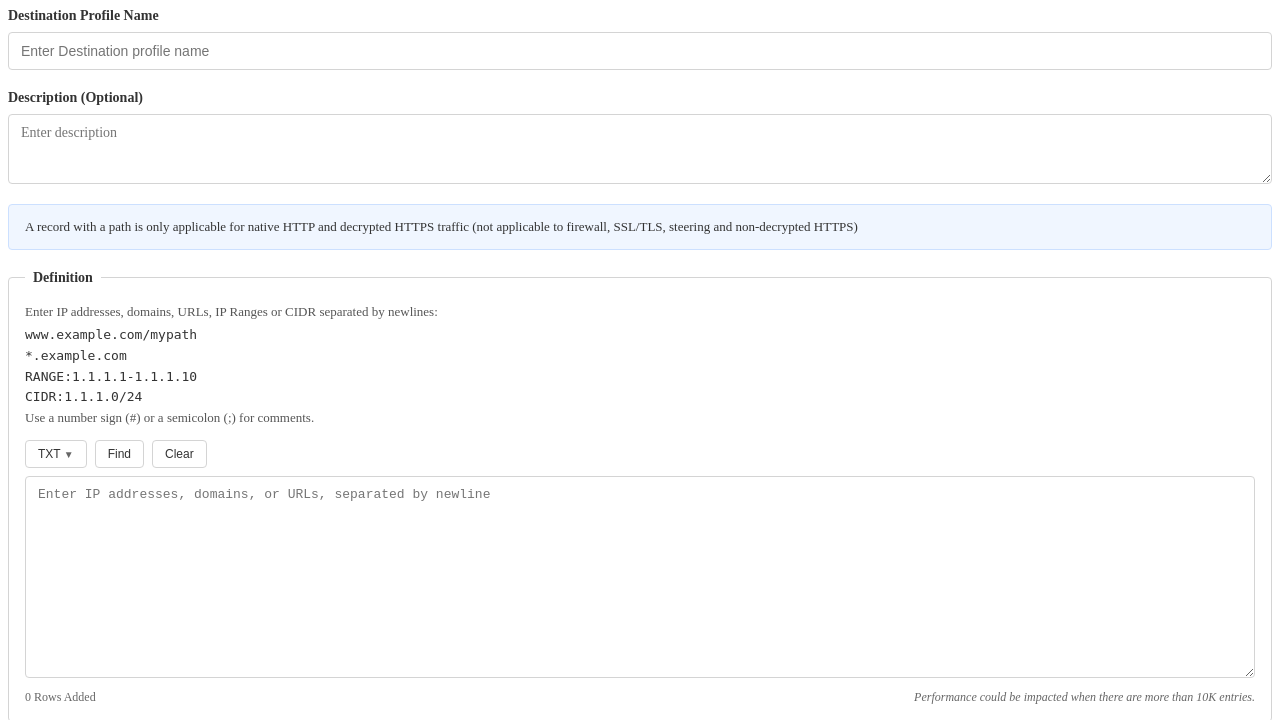
Test: DestinationForm › enables save button when name entered
In the field labelled "Destination Profile Name": (640, 51) x1=8 y1=32 x2=1272 y2=70, type "My Dest"
(page scrolled)
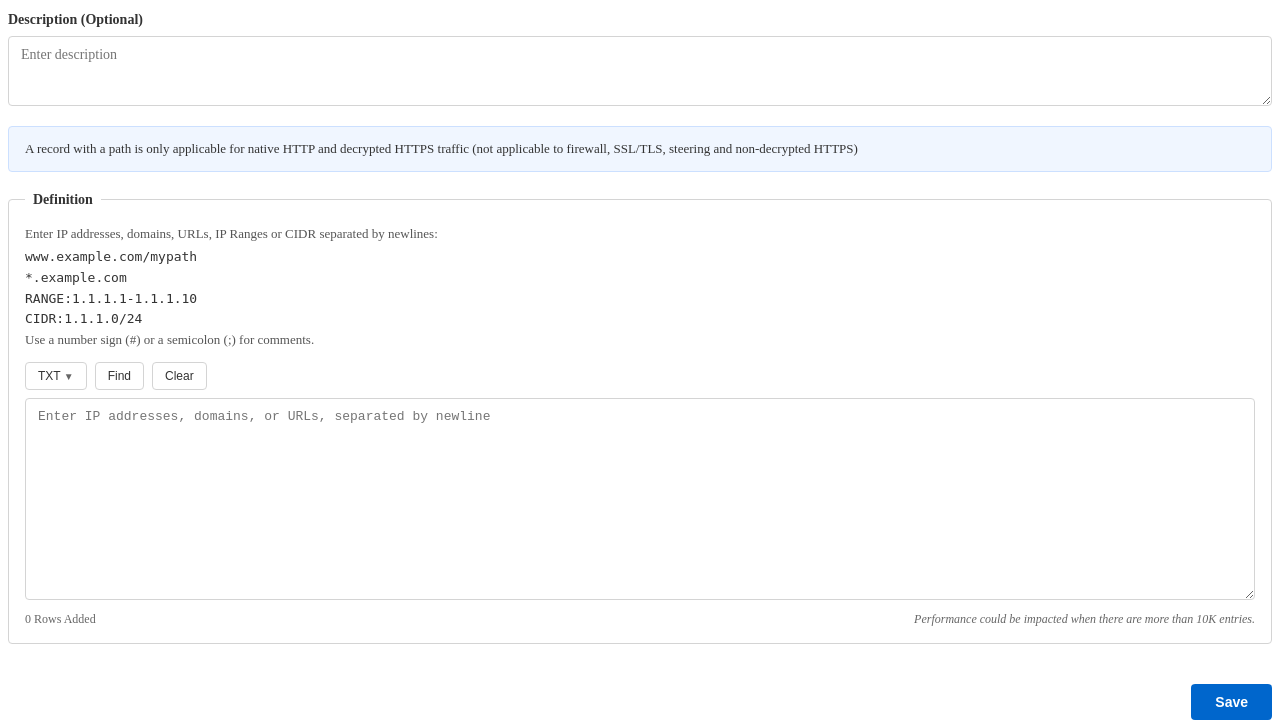
Now the button "Save" is enabled, box x1=1191 y1=684 x2=1272 y2=719
